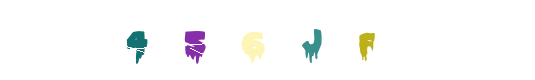4: (154, 0, 234, 80)
5: (178, 0, 258, 80)
6: (221, 0, 301, 80)
F: (326, 0, 406, 80)
J: (228, 0, 308, 80)
